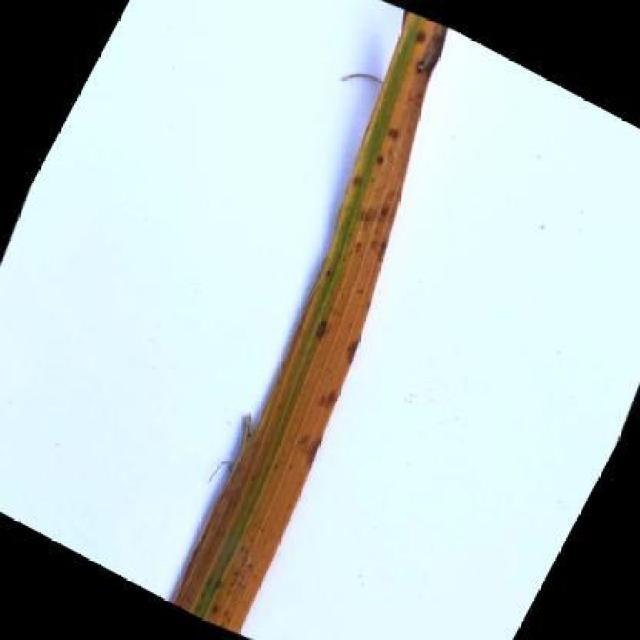Rice False Smut: (109, 9, 534, 636)
